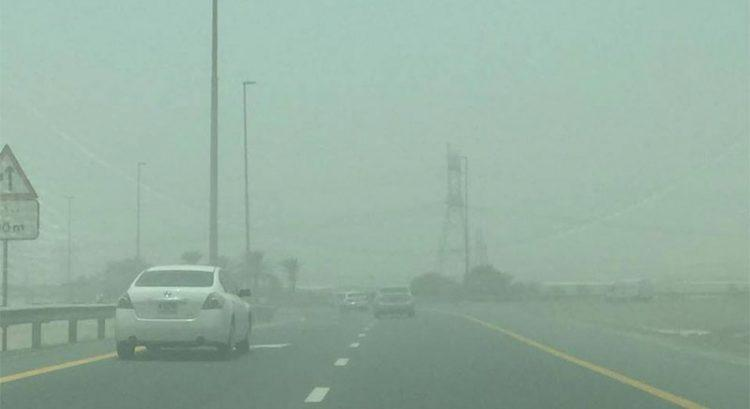car: (115, 265, 252, 360), (371, 285, 416, 319), (604, 275, 655, 303), (338, 291, 369, 311)
